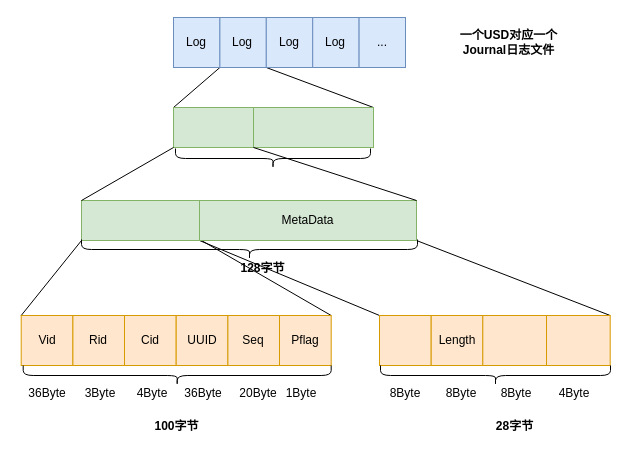
The diagram is 629 pixels wide and 459 high, and some of its shapes have lost their labels. The shapes that lost their labels are listed below. From the top down, each one's centre as x and y in pixels, then its label:
[213,127]: Header
[313,127]: Data
[272,158]: 4K对齐
[141,220]: Key
[404,340]: Offset
[514,340]: TimeStamp
[578,340]: CRC
